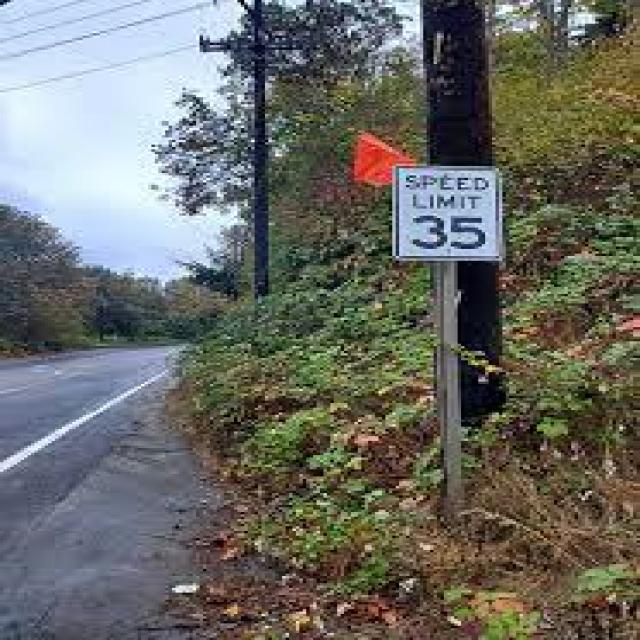speedLimit35: (392, 163, 507, 264)
